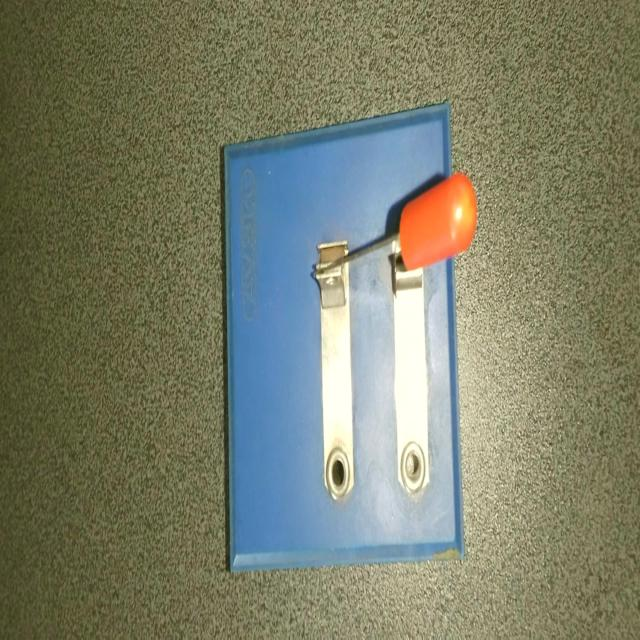L Switch: (206, 88, 488, 598)
